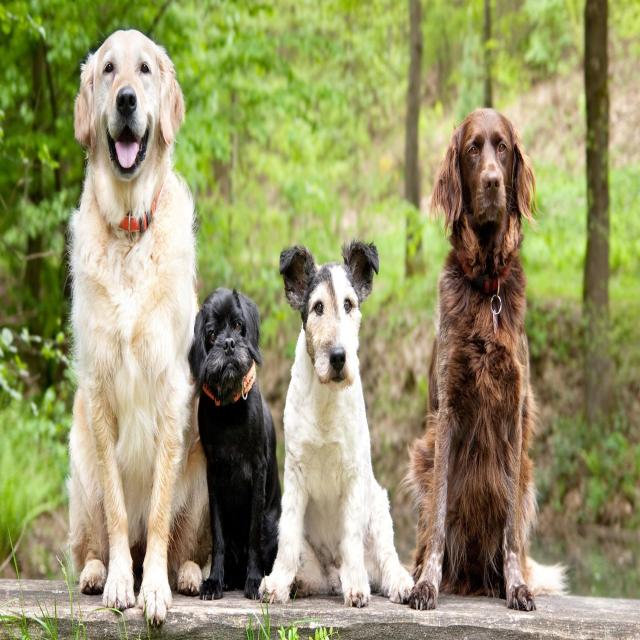Dog: (426, 100, 540, 293), (71, 22, 189, 196), (276, 234, 384, 398), (189, 281, 264, 396)
